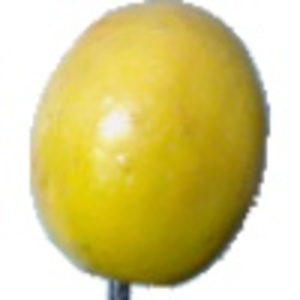maracujá: (26, 1, 272, 300)
